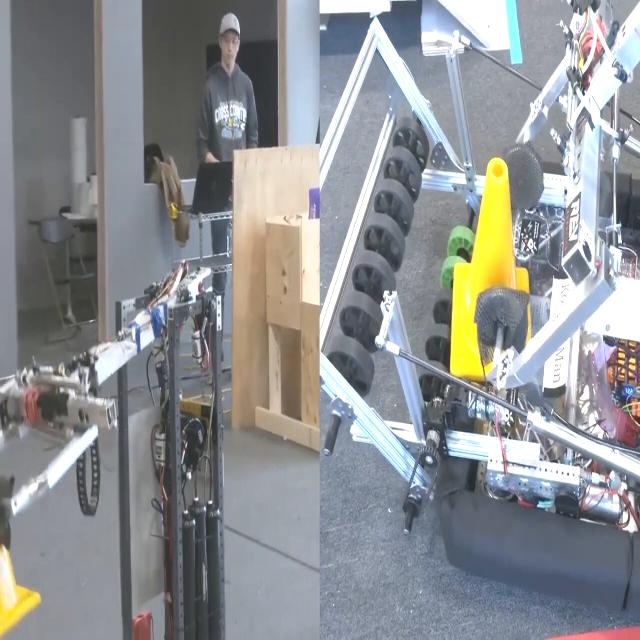frc_cone: (453, 146, 531, 384), (0, 479, 41, 639)
frc_cube: (302, 179, 322, 221)
